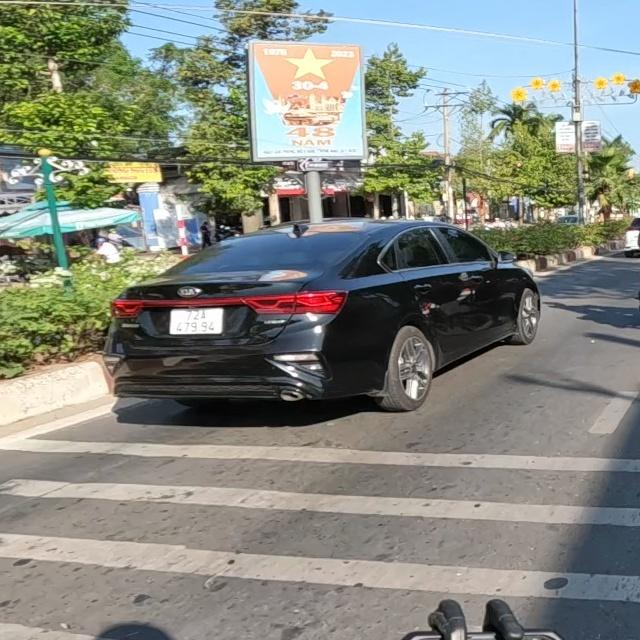license-plate: (168, 305, 225, 337)
